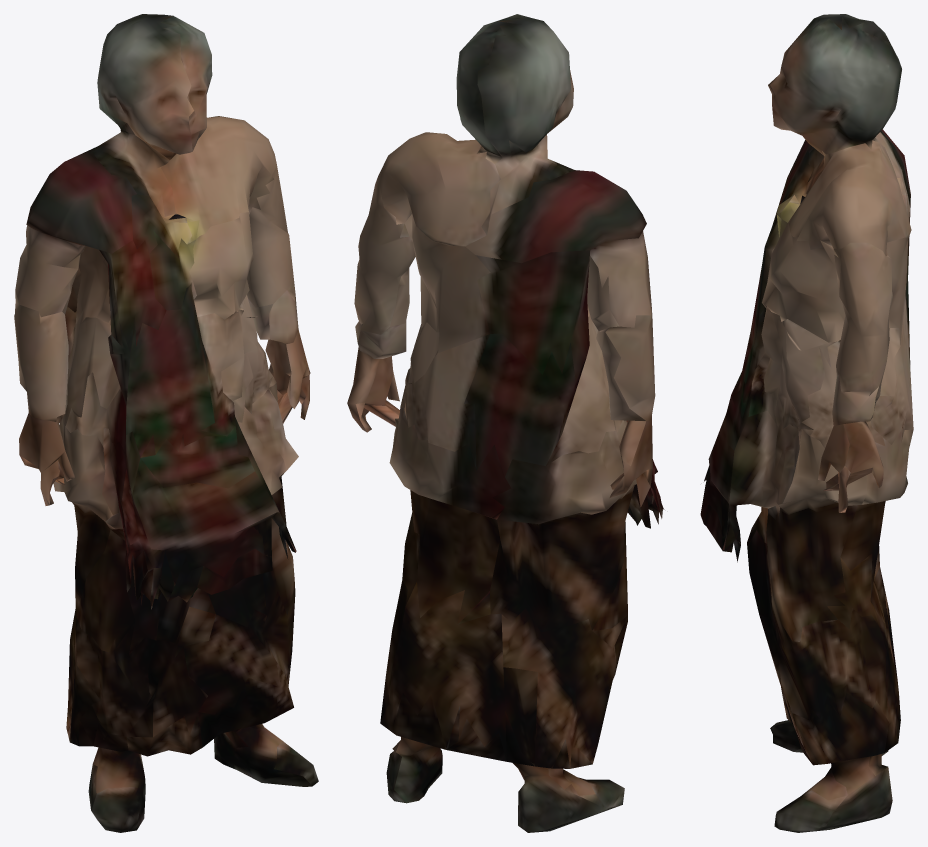
Rendered from masyarakat_4_idle_lod2.glb.
3 views of the same model, side by side, from view 1: azimuth 30°, elevation 25°; view 2: azimuth 150°, elevation 25°; view 3: azimuth 270°, elevation 25° (orthographic). The views are drawn at different scales.
Parts seen in each view (by area): view 1: tripo_node_a3dee926; view 2: tripo_node_a3dee926; view 3: tripo_node_a3dee926.
Boxes of the visible parts, x1,y1,x2,y2 form: tripo_node_a3dee926: (14,14,318,832); tripo_node_a3dee926: (347,14,664,832); tripo_node_a3dee926: (700,14,913,832).
Size of the model in its own units: 39.32 by 99.34 by 25.82.
Materials: 1 (1 with a texture image).
